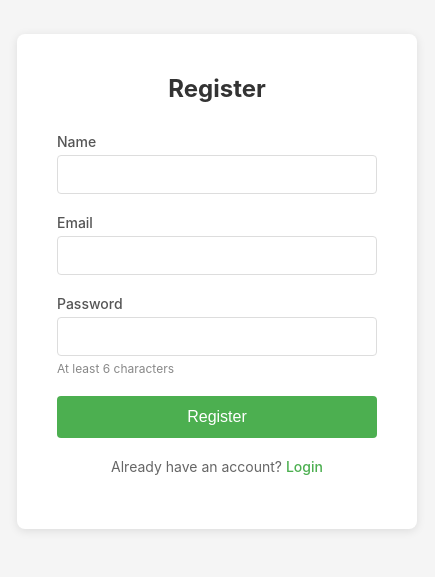
Test: Register Page › should show error message on registration failure
In the field labelled "Name": coordinates (217, 174) [57, 154, 377, 194], type "John Doe"
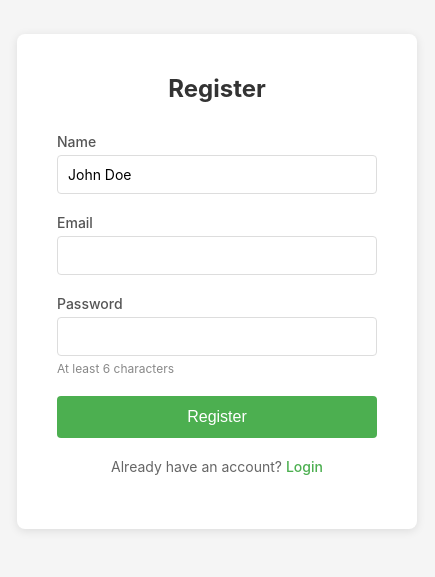
In the field labelled "Email": coordinates (217, 255) [57, 236, 377, 274], type "existing@test.com"
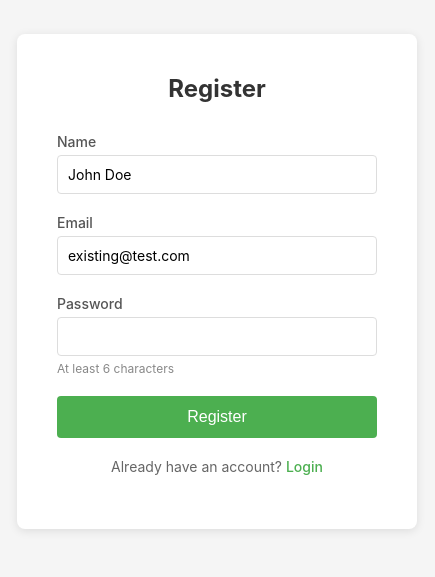
In the password field labelled "Password": coordinates (217, 336) [57, 316, 377, 356], type "password123"
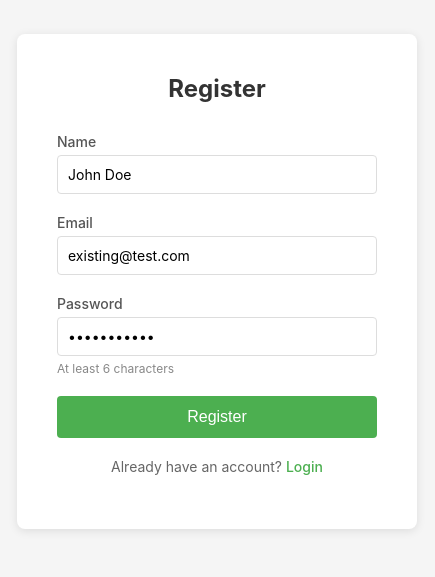
Click the button "Register": coordinates (217, 416) [57, 396, 377, 438]
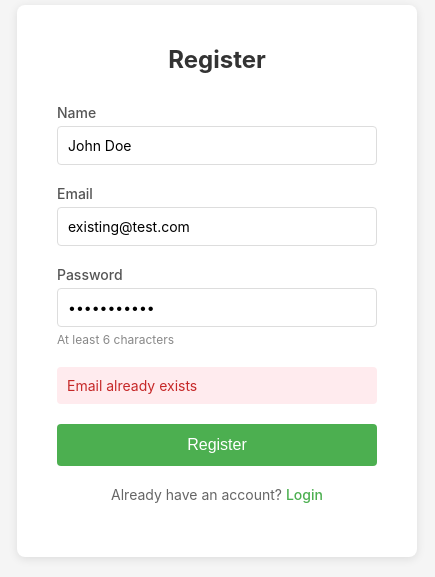
expect the text "Email already exists" is shown: met, box [57, 367, 377, 404]
